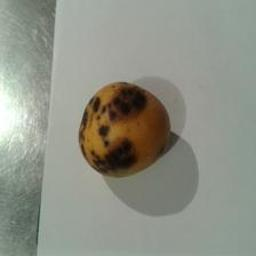Mango Rotten: (75, 70, 172, 188)
